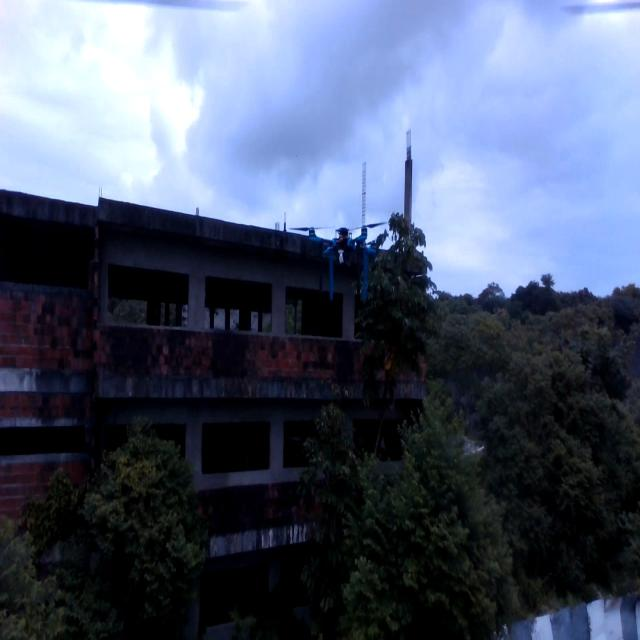-uav-: (285, 206, 396, 318)
